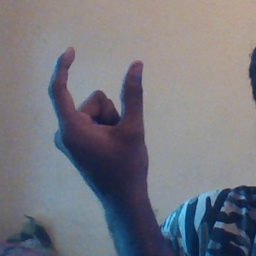U: (41, 44, 156, 175)
